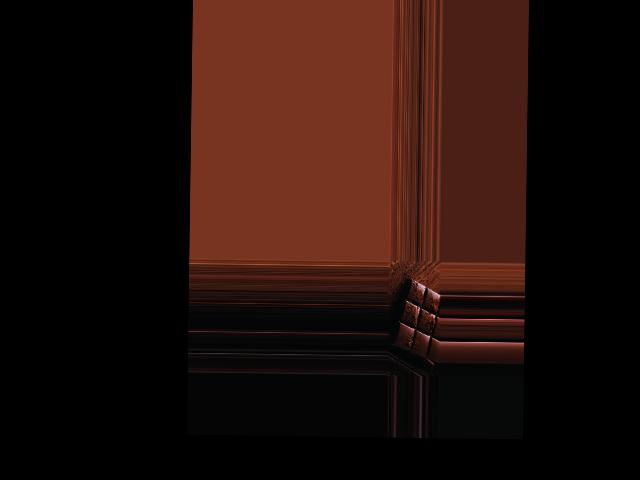chocolate: (391, 274, 440, 363)
